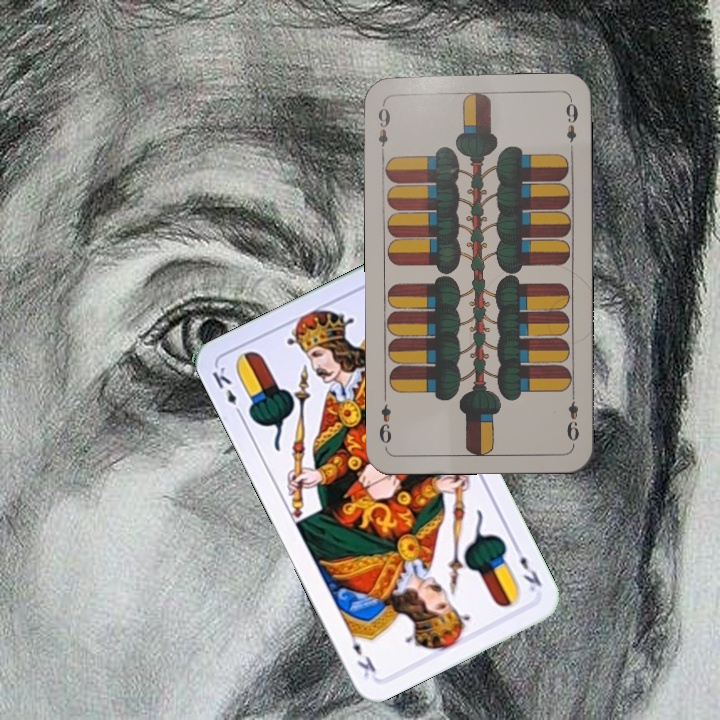E9: (562, 388, 582, 447), (373, 99, 393, 158)
EK: (208, 362, 245, 420), (509, 540, 545, 595)
